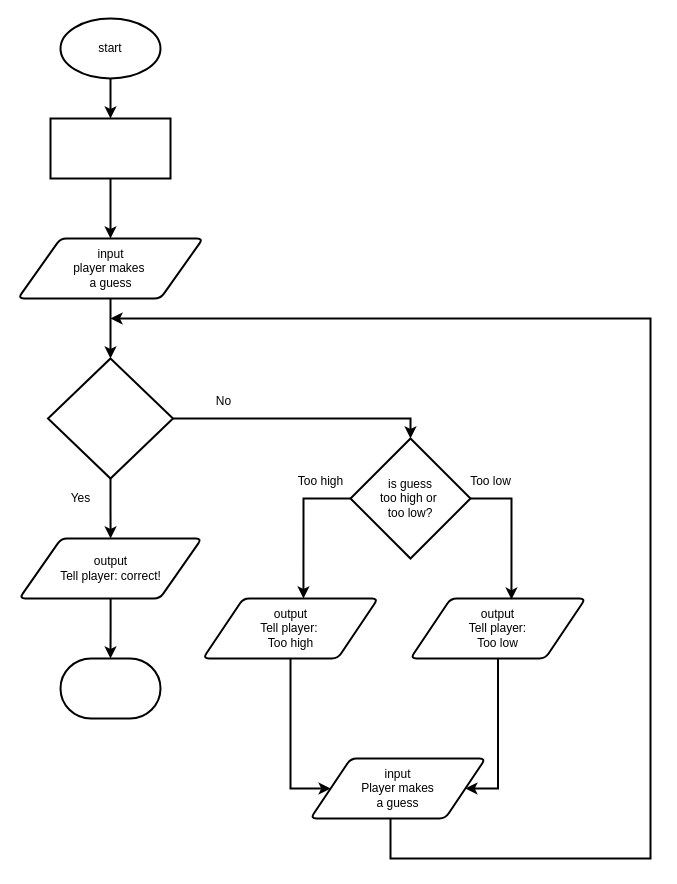
This 677x884 diagram has some shape labels left out. Here are the shapes that lost their labels. From the top down, the centre of each, then its label:
the point at 110,148: Pick a number between 1 and 100
the point at 110,418: Is guess correct?
the point at 110,688: stop
